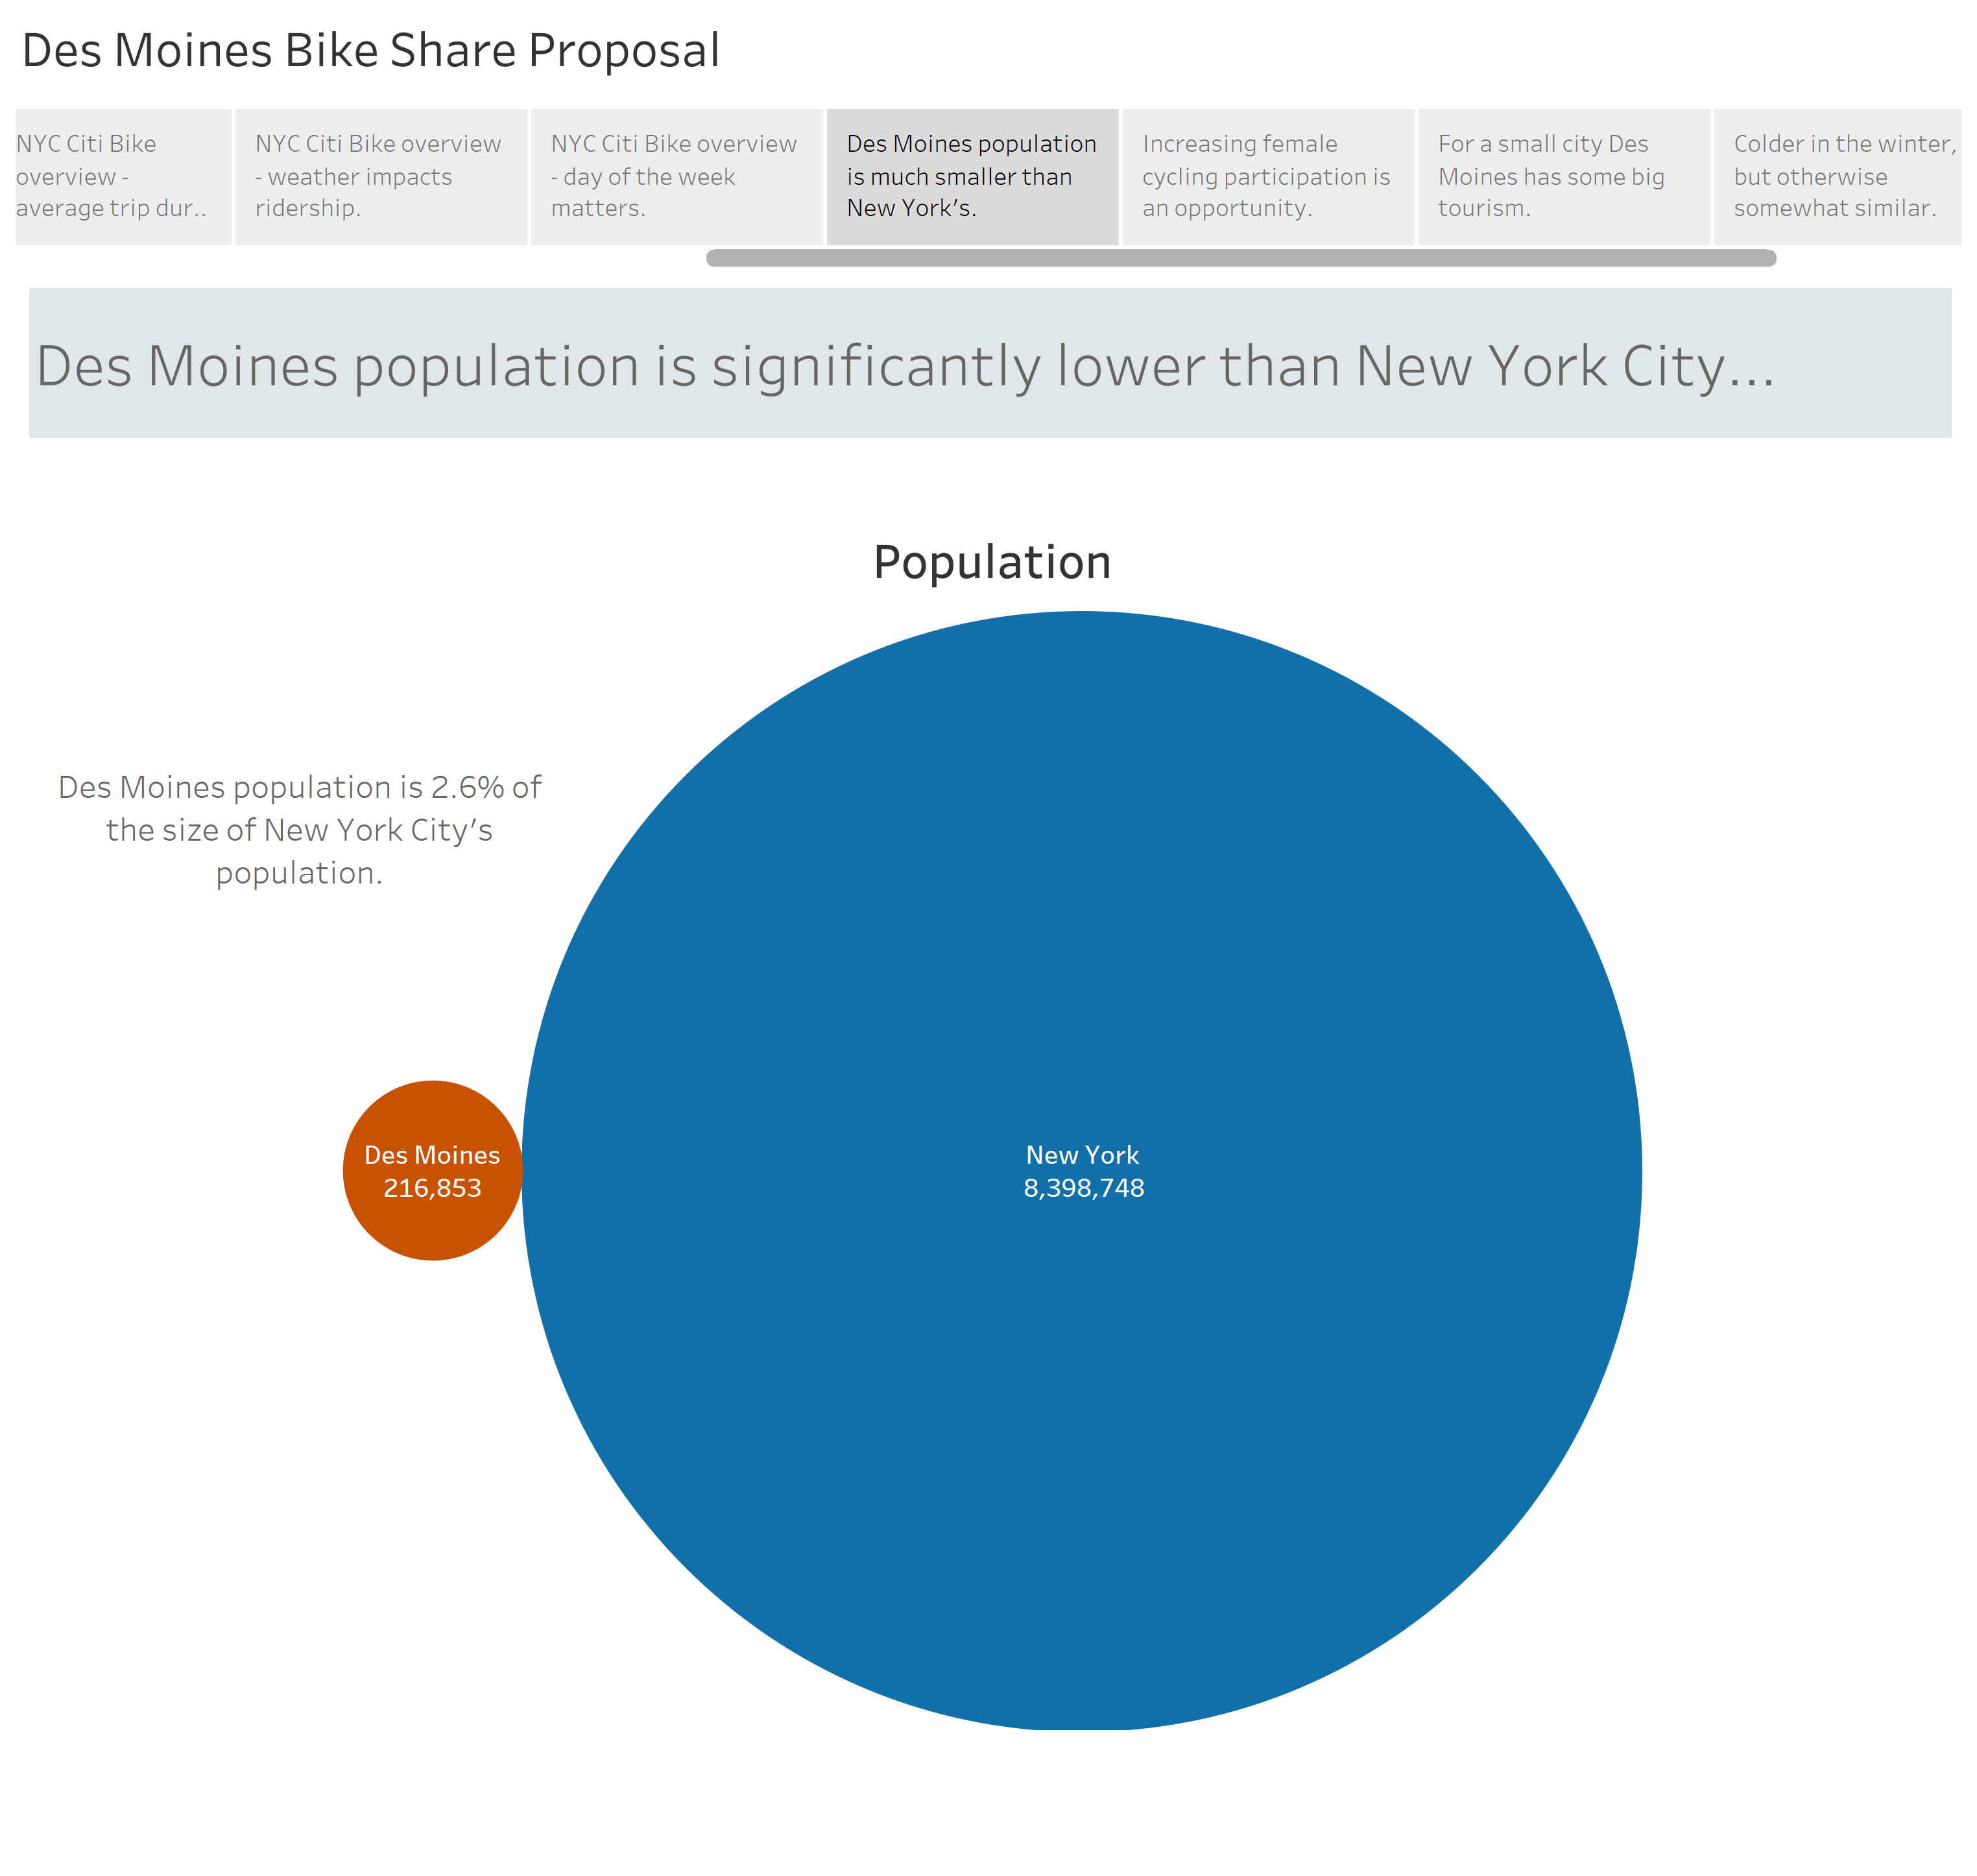

This screenshot's page, from the dashboard's own definition file:
{"tool":"tableau","page":{"name":"Population Comparison","canvas":[1000,800],"ordinal":7},"visuals":[{"type":"text","box":[7,6,988,77]},{"type":"worksheet","title":"Population","mark":"Circle","box":[11,123,982,624]},{"type":"text","box":[18,221,256,127]}]}

Visuals, with their boxes on the page's 1000x800 design canvas (x1, y1, x2, y2). These are canvas units, not pixel positions in the 1977x1876 screenshot, which may show the page scaled, cropped or inside an application window:
text: box=[7, 6, 995, 83]
"Population" worksheet (Circle marks): box=[11, 123, 993, 747]
text: box=[18, 221, 274, 348]
